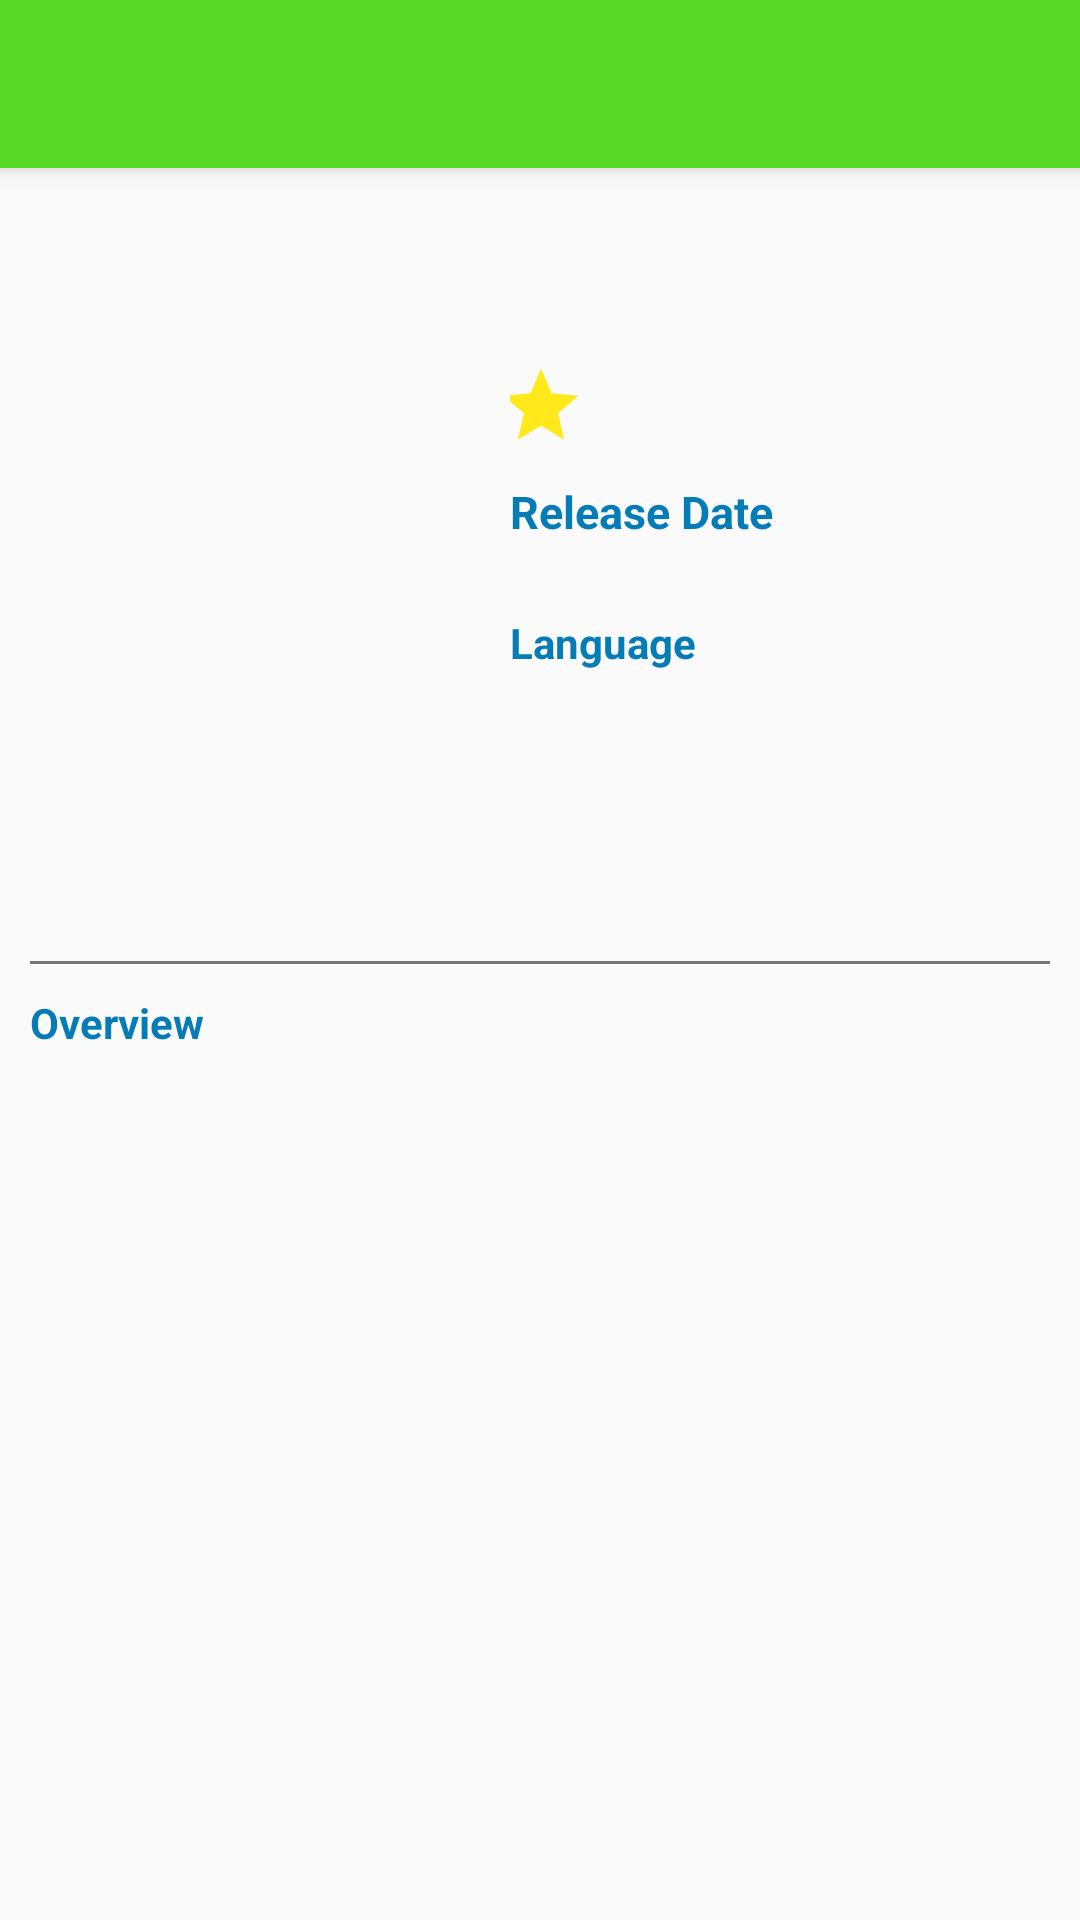

Named icons in this screenshot (1080px x 1920px) and their centers, point (x, y):
star: point (544, 404)
